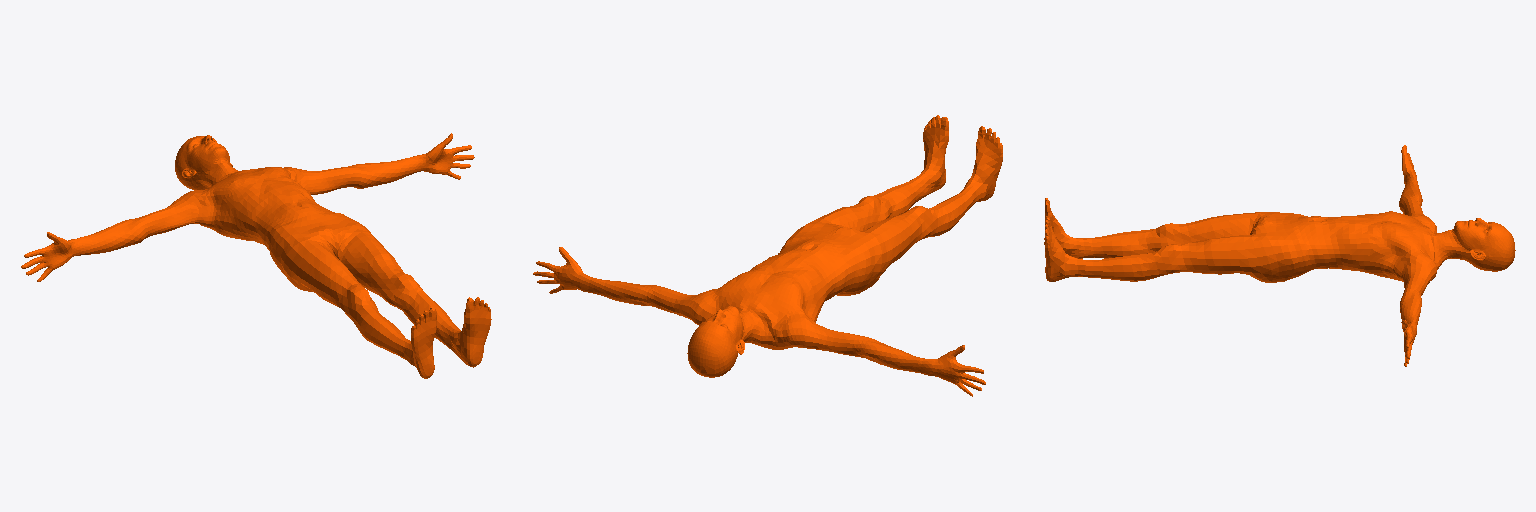
URDF robot description (body):
<?xml version="1.0" ?>
<robot name="body">
   <material name="obj_color">
      <color rgba="1.0 0.423529411765 0.0392156862745 1.0"/>
   </material>
   <link name="top">
      <inertial>
         <origin rpy="3.155076967502728 19.22458482032178 21.87015231391965" xyz="-0.0004450398782552111 -0.3173033193519944 -0.01833182885824168"/>
         <mass value="114.52479252598"/>
         <inertia ixx="19.22459500627921" ixy="-0.01211607096037864" ixz="-0.00727452973825423" iyy="3.156544357124303" iyz="-0.1651888880249832" izz="21.86867473834064"/>
      </inertial>
      <visual>
         <origin rpy="0 0 0" xyz="0 0 0"/>
         <geometry>
            <mesh filename="top_watertight_tiny.stl" scale="1 1 1"/>
         </geometry>
         <material name="obj_color"/>
      </visual>
      <collision>
         <origin rpy="0 0 0" xyz="0 0 0"/>
         <geometry>
            <mesh filename="top_watertight_tiny.obj" scale="1 1 1"/>
         </geometry>
      </collision>
   </link>
   <link name="bottom">
      <inertial>
         <origin rpy="1.633333333194242e-08 1.633333333194243e-08 1.633333333357667e-08" xyz="0.3464080000000008 0.3464080000000008 0.3464080000000008"/>
         <mass value="0.0009800000000000017"/>
         <inertia ixx="1.633333333248717e-08" ixy="5.447480642029219e-19" ixz="5.447480642029219e-19" iyy="1.633333333248717e-08" iyz="5.447480642029219e-19" izz="1.633333333248717e-08"/>
      </inertial>
      <visual>
         <origin rpy="0 0 0" xyz="0 0 0"/>
         <geometry>
            <mesh filename="bottom_watertight_tiny.stl" scale="1 1 1"/>
         </geometry>
         <material name="obj_color"/>
      </visual>
   </link>
   <link name="world"/>
   <joint name="world_to_base" type="fixed">
      <origin xyz="0 0 0"/>
      <axis xyz="0 0 0"/>
      <parent link="world"/>
      <child link="bottom"/>
   </joint>
   <joint name="rotation" type="revolute">
      <origin xyz="0 0 0"/>
      <axis xyz="0 0 -1"/>
      <parent link="bottom"/>
      <child link="top"/>
      <dynamics damping="1.0" friction="1.0"/>
      <limit effort="0.1" velocity="0.1" lower="0" upper="0.001"/>
   </joint>
</robot>

--- Facts derived from the render (not from the file) ---
The picture shows the robot from 3 angles, left to right: view 1: azimuth 30°, elevation 25°; view 2: azimuth 150°, elevation 25°; view 3: azimuth 270°, elevation 25°; orthographic projection.
Model body with 3 links and 2 joints (1 revolute, 1 fixed), rooted at world, posed every joint at zero.
Links seen in each view (by area): view 1: top; view 2: top; view 3: top.
Boxes of the visible links, x1,y1,x2,y2 form: top: [21, 133, 491, 378]; top: [533, 115, 1002, 396]; top: [1044, 145, 1515, 366].
Size in the robot's own frame: 1.76 by 1.78 by 0.2812 metres.
1 mesh visuals loaded from 2 distinct referenced files (1 binary STL); not drawn: 1 (reference not matched to a file when rendering).
